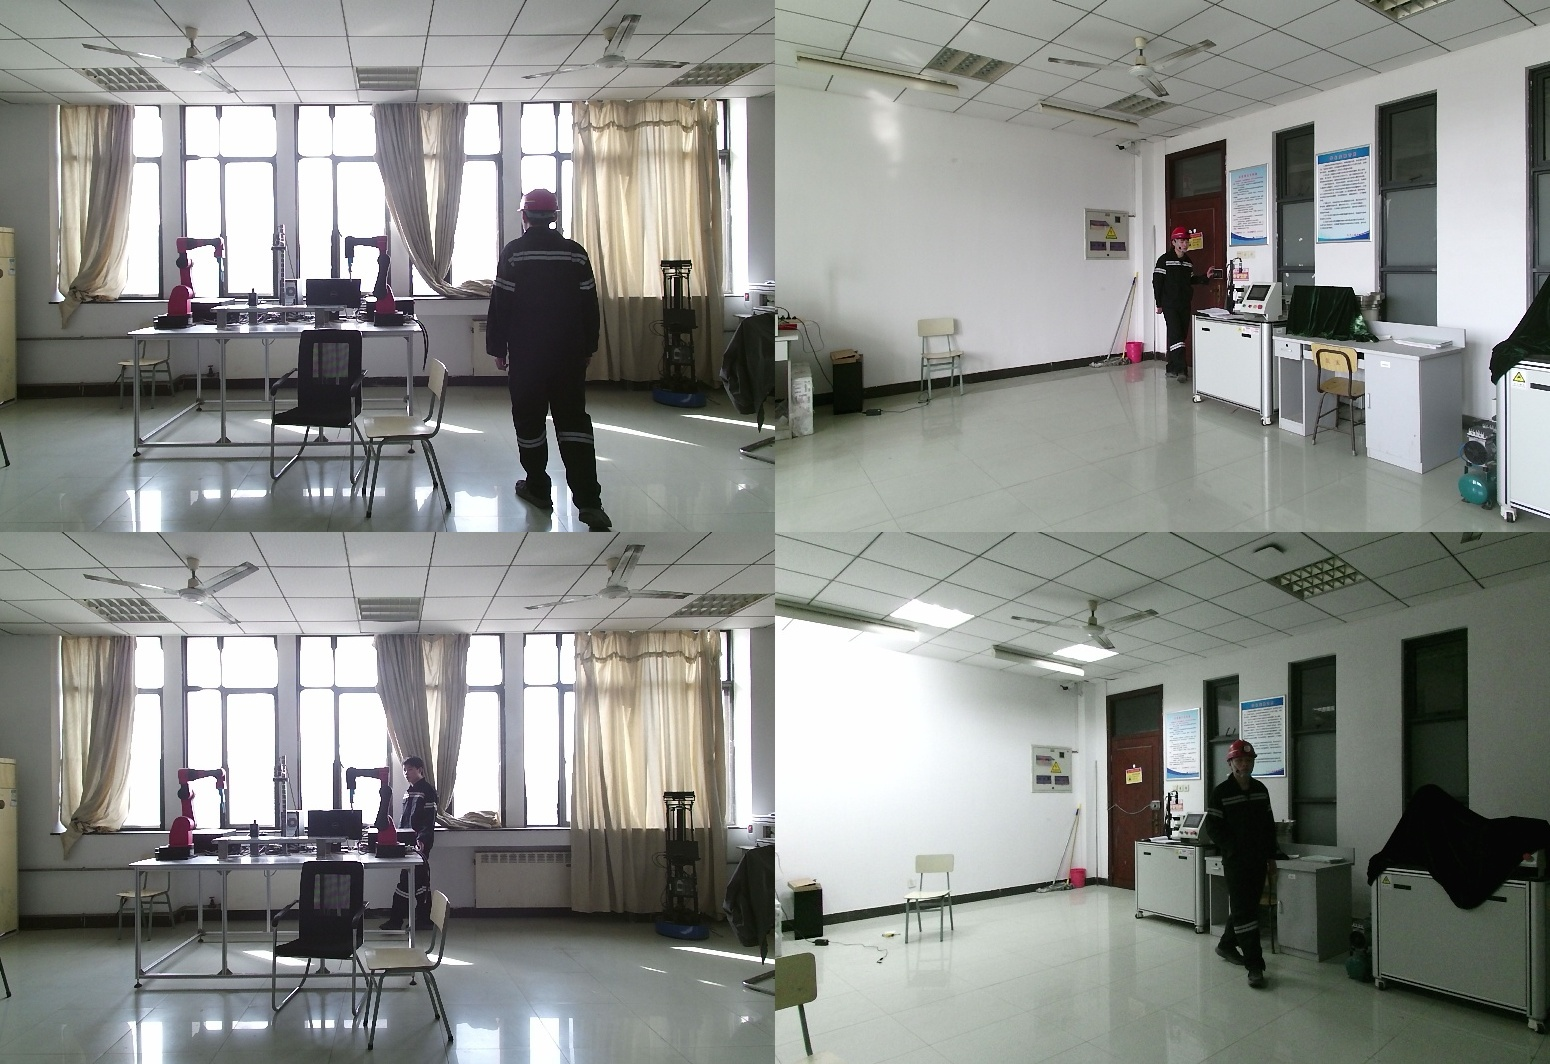person: (489, 188, 618, 532), (1200, 741, 1282, 990), (380, 757, 445, 939), (1153, 228, 1211, 386)
